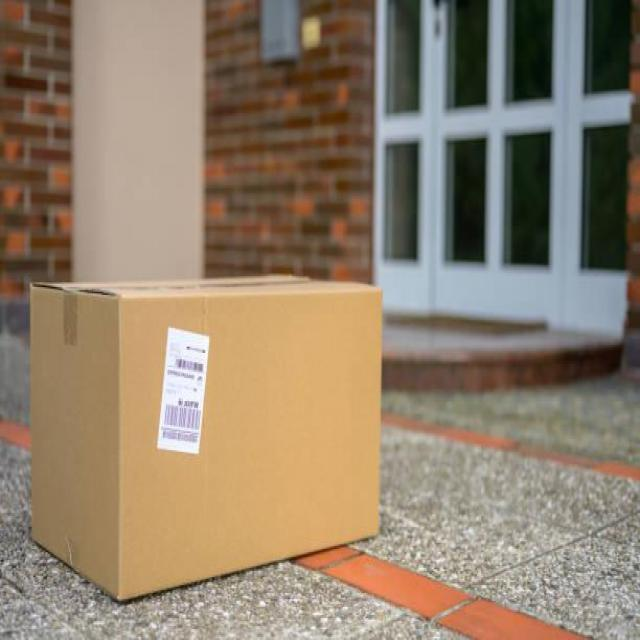box: (25, 255, 383, 599)
